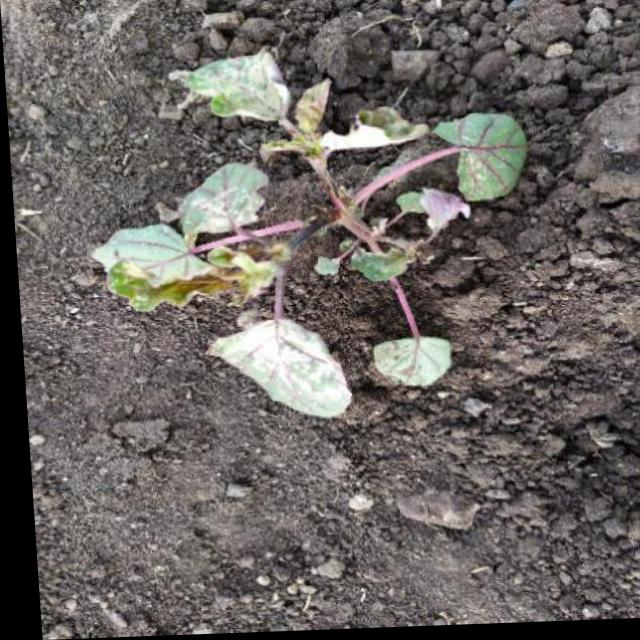weed: (82, 45, 538, 419)
